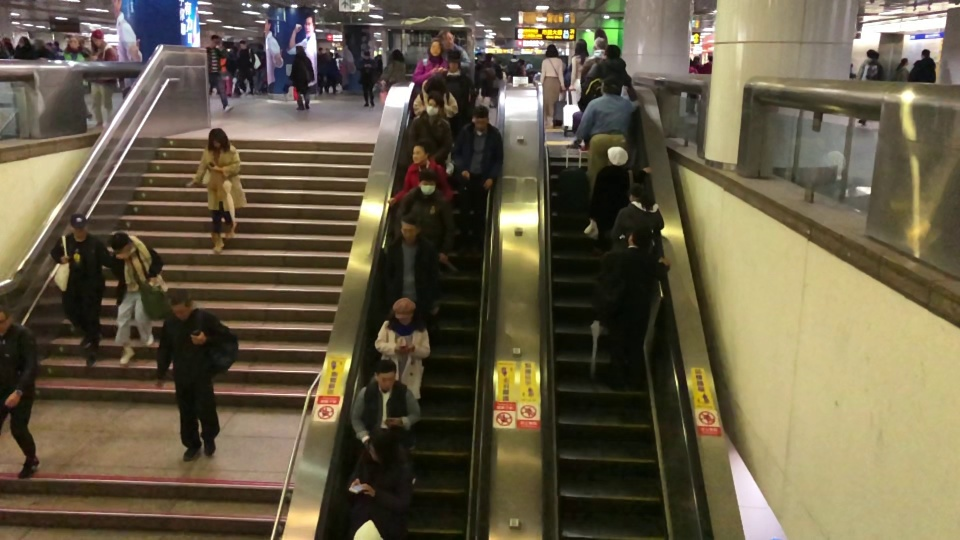person_head: (367, 428, 399, 471), (371, 356, 399, 392), (391, 294, 417, 327), (169, 289, 195, 321), (399, 214, 423, 244), (415, 168, 438, 199), (109, 230, 135, 256), (410, 136, 434, 164), (627, 225, 651, 251), (606, 143, 630, 168), (625, 180, 647, 207), (68, 212, 88, 240), (425, 91, 444, 118), (207, 126, 227, 151), (472, 104, 490, 130), (0, 307, 13, 338), (445, 48, 461, 73), (436, 29, 455, 50), (602, 42, 622, 61), (601, 76, 620, 95), (427, 37, 444, 57), (89, 30, 105, 47), (388, 48, 405, 64), (592, 36, 608, 51), (544, 43, 558, 59), (575, 38, 588, 55), (67, 35, 80, 50), (210, 33, 222, 49), (16, 35, 29, 48), (293, 43, 306, 56), (866, 48, 879, 59), (484, 52, 495, 64), (920, 48, 931, 60), (239, 38, 248, 49), (899, 58, 909, 67), (363, 49, 371, 59)
person_vbox: (596, 227, 671, 391), (49, 213, 129, 366), (154, 290, 222, 461), (374, 296, 430, 448), (393, 169, 451, 315), (186, 126, 249, 255), (575, 76, 640, 200), (344, 430, 416, 539), (451, 105, 503, 254), (109, 232, 164, 365), (0, 306, 40, 479), (382, 213, 439, 327), (352, 357, 420, 449), (577, 44, 632, 151), (588, 144, 651, 236), (386, 138, 452, 223), (610, 182, 663, 247), (442, 48, 477, 140), (86, 29, 119, 125), (408, 92, 451, 164), (62, 36, 92, 119), (539, 43, 567, 125), (205, 34, 233, 114), (855, 47, 882, 125), (413, 75, 458, 119), (288, 45, 315, 111), (412, 40, 449, 85), (477, 52, 503, 107), (437, 30, 470, 73), (568, 39, 588, 105), (580, 37, 608, 84), (357, 49, 377, 108), (236, 39, 257, 95), (380, 48, 408, 89), (907, 49, 937, 82), (12, 35, 38, 60), (890, 56, 909, 80)
